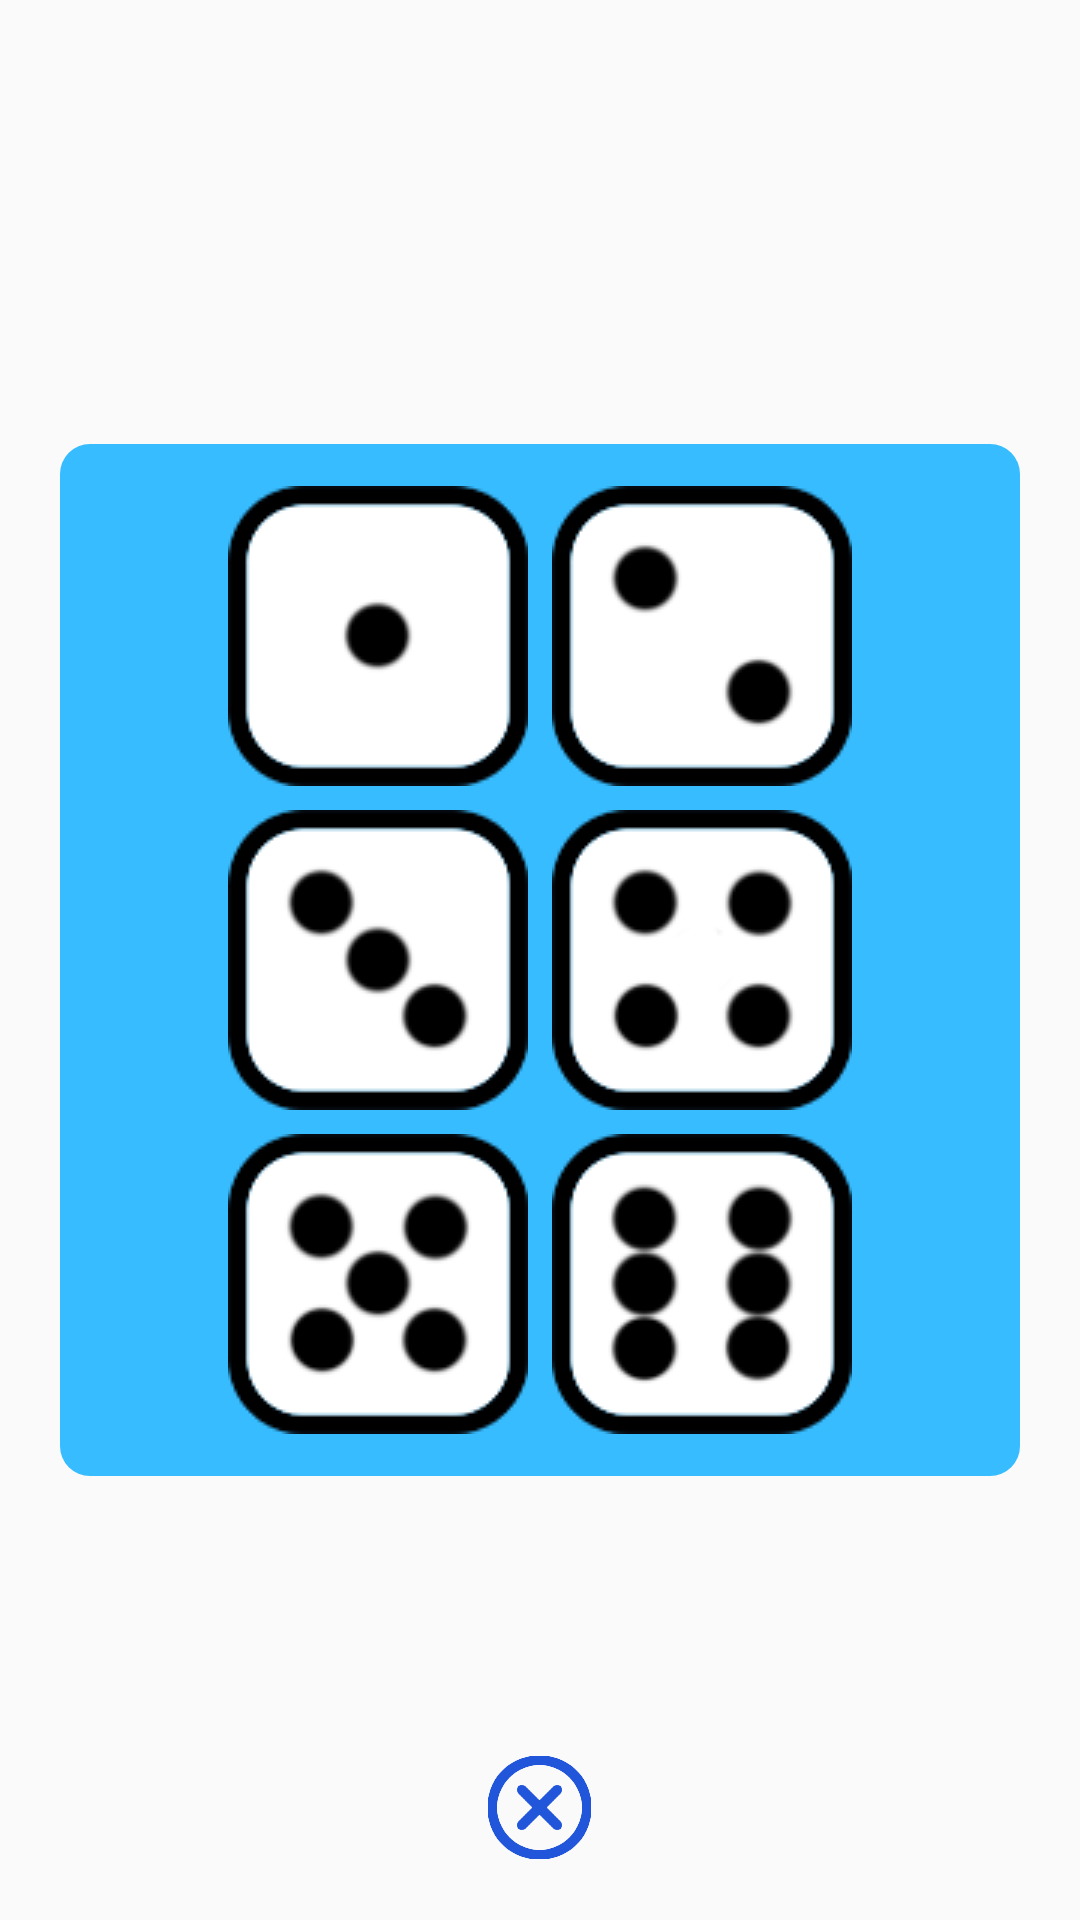

Named icons in this screenshot (1080 × 1920) and their centers, [x,y]:
close: [539,1807]
